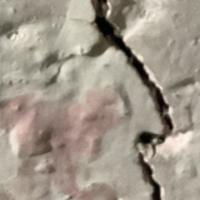crack: (82, 0, 190, 199)
